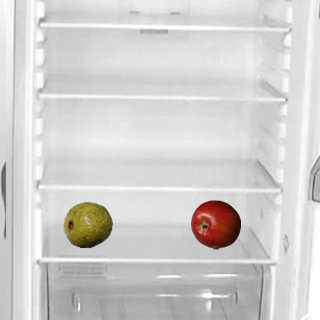Apple Braeburn: (190, 199, 240, 249)
Guava: (62, 199, 112, 249)
